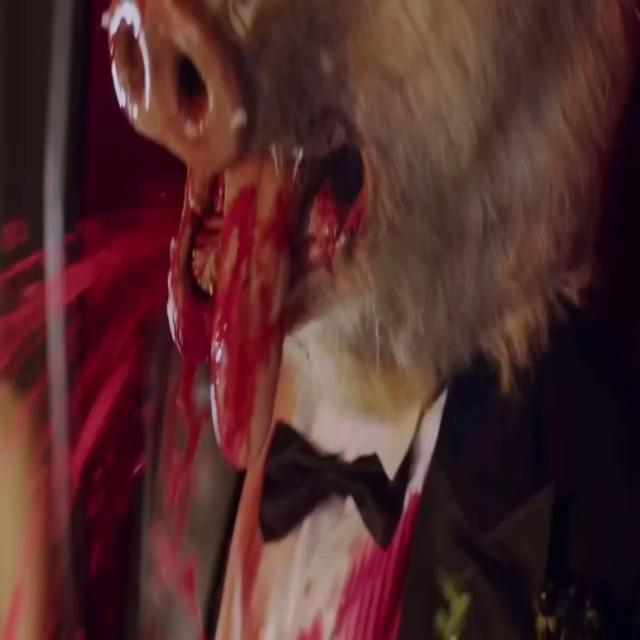flood: (96, 102, 326, 620)
